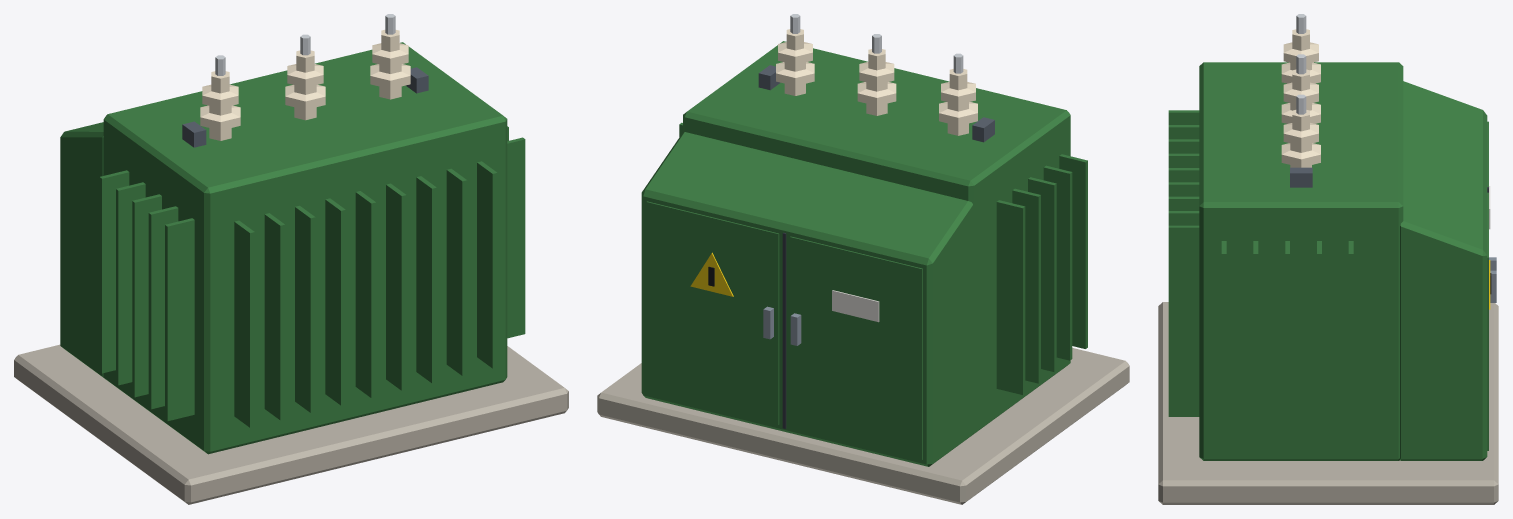
The model's file is transformer.glb.
3 renders of one model, left to right at view 1: azimuth 30°, elevation 25°; view 2: azimuth 150°, elevation 25°; view 3: azimuth 270°, elevation 25°, orthographic. The views are drawn at different scales.
Parts seen in each view (by area): view 1: transformer; view 2: transformer; view 3: transformer.
Part boxes in pixels (box(x1,y1,x2,y2)): transformer: box(14, 14, 568, 504); transformer: box(597, 14, 1129, 504); transformer: box(1158, 14, 1498, 504).
Bounding box in the file's own units: 1.9 × 1.75 × 1.5.
